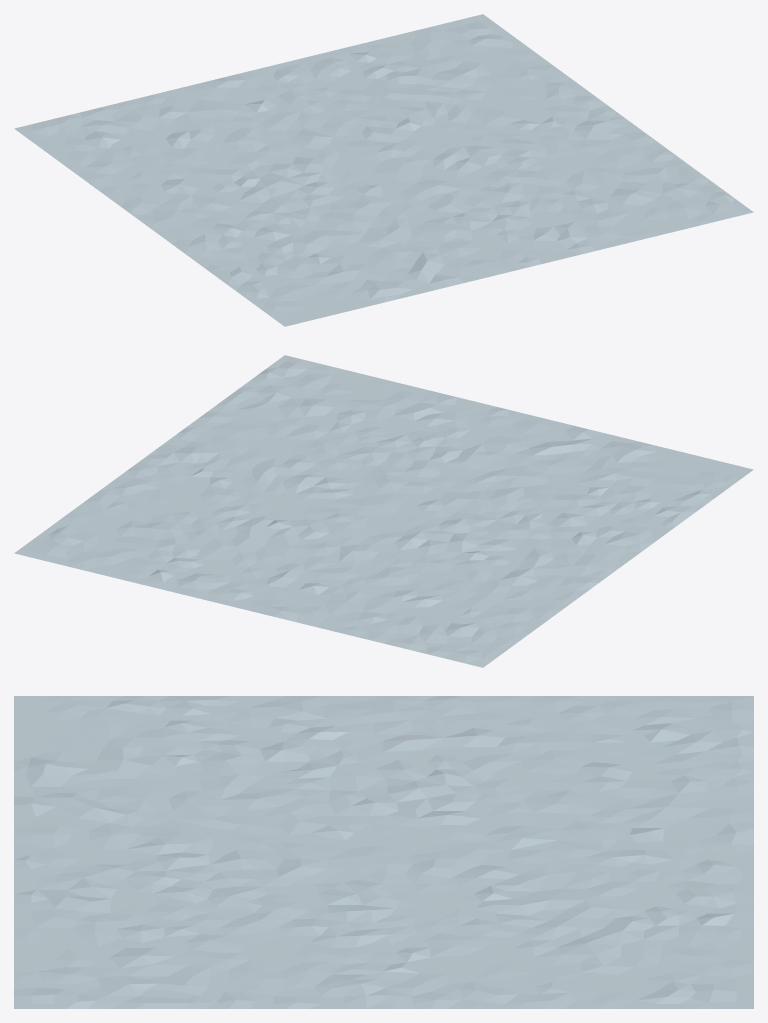
Rendered from Water_01.fbx.
3 renders of one model, top to bottom at view 1: azimuth 30°, elevation 25°; view 2: azimuth 150°, elevation 25°; view 3: azimuth 270°, elevation 25°, orthographic. The views are drawn at different scales.
Visible parts, largest first — view 1: Water_01; view 2: Water_01; view 3: Water_01.
Part boxes in pixels (x1,y1,x2,y2): Water_01: [14, 14, 753, 326]; Water_01: [14, 355, 753, 667]; Water_01: [14, 696, 753, 1008].
Size of the model in its own units: 10000 by 50 by 10000.
